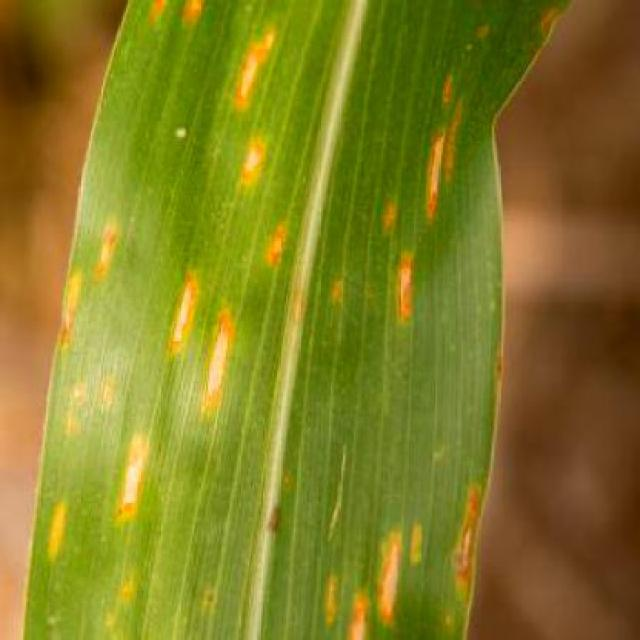Corn_Grey_Leaf_Spot: (26, 0, 559, 640)
